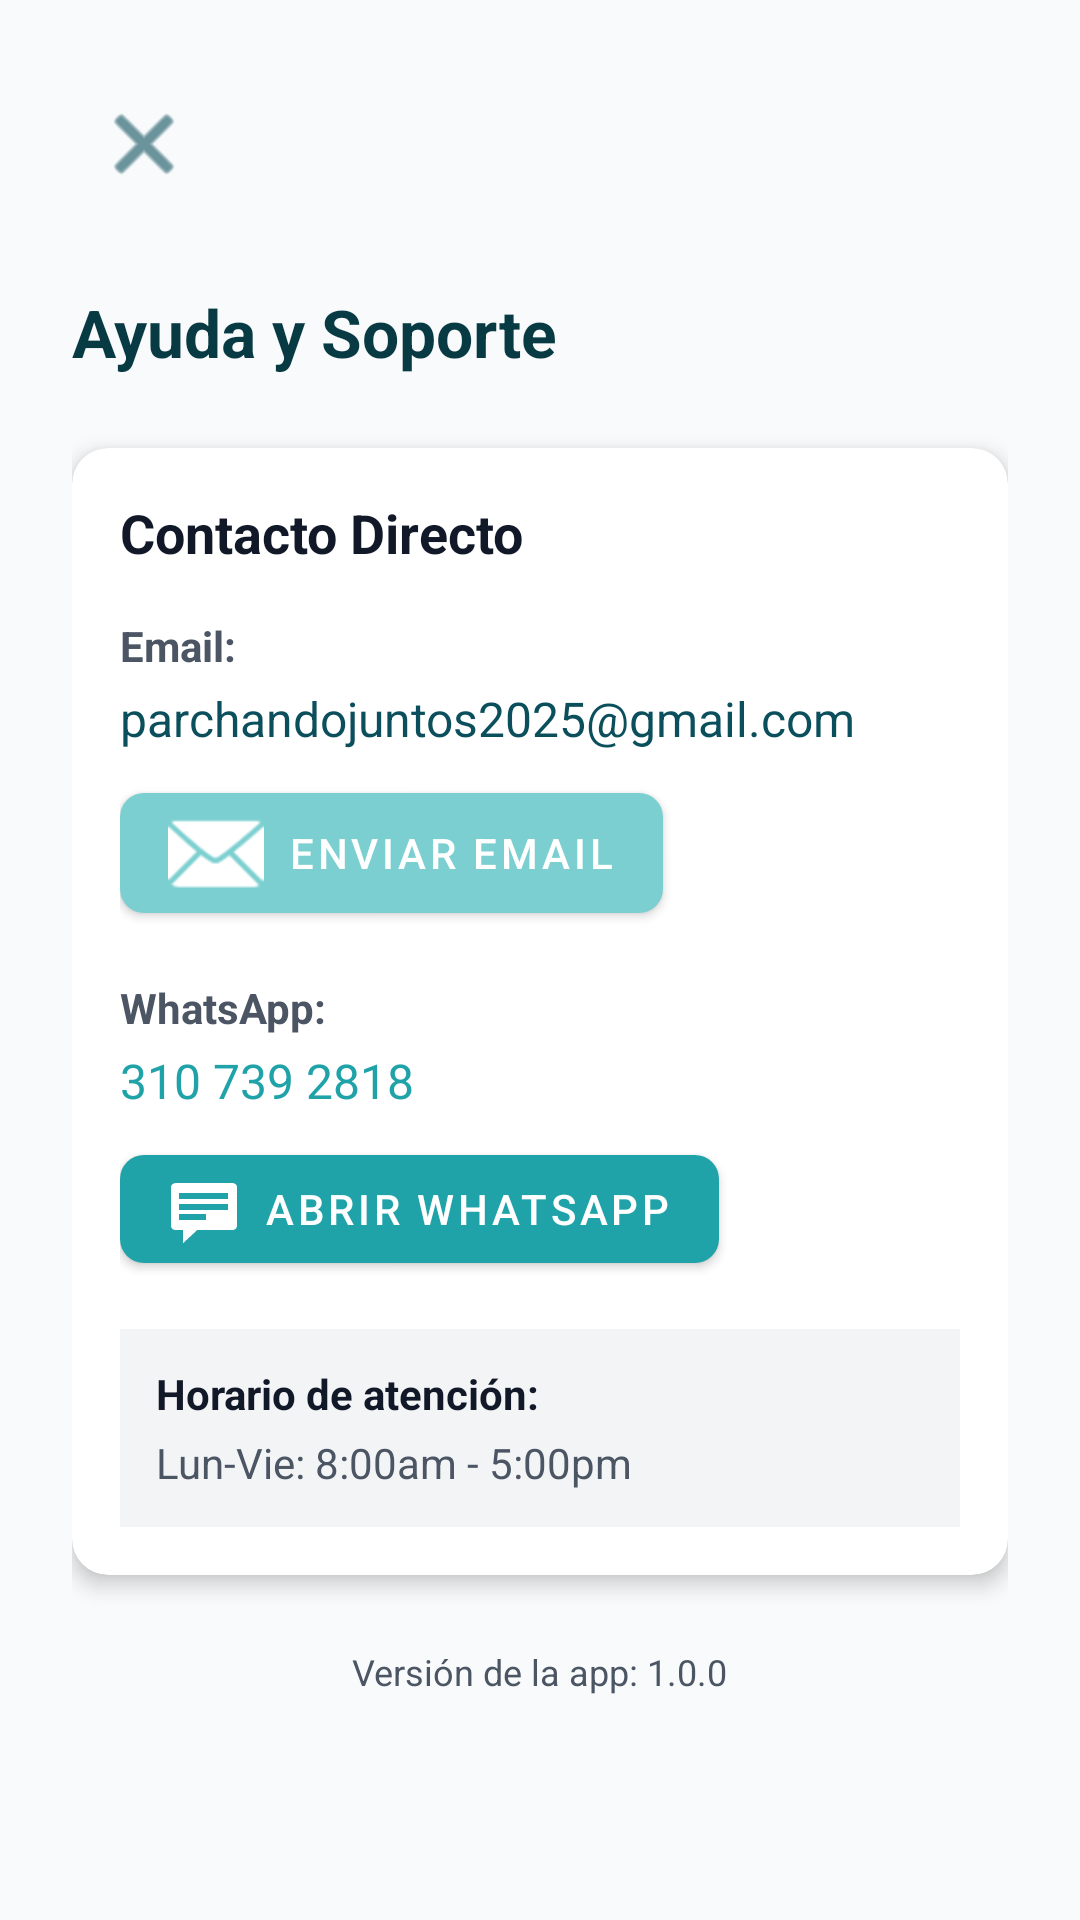

Screen size 1080px x 1920px. Icon name, then its center in pixels as (x=x, y=y):
Volver: (x=144, y=144)
